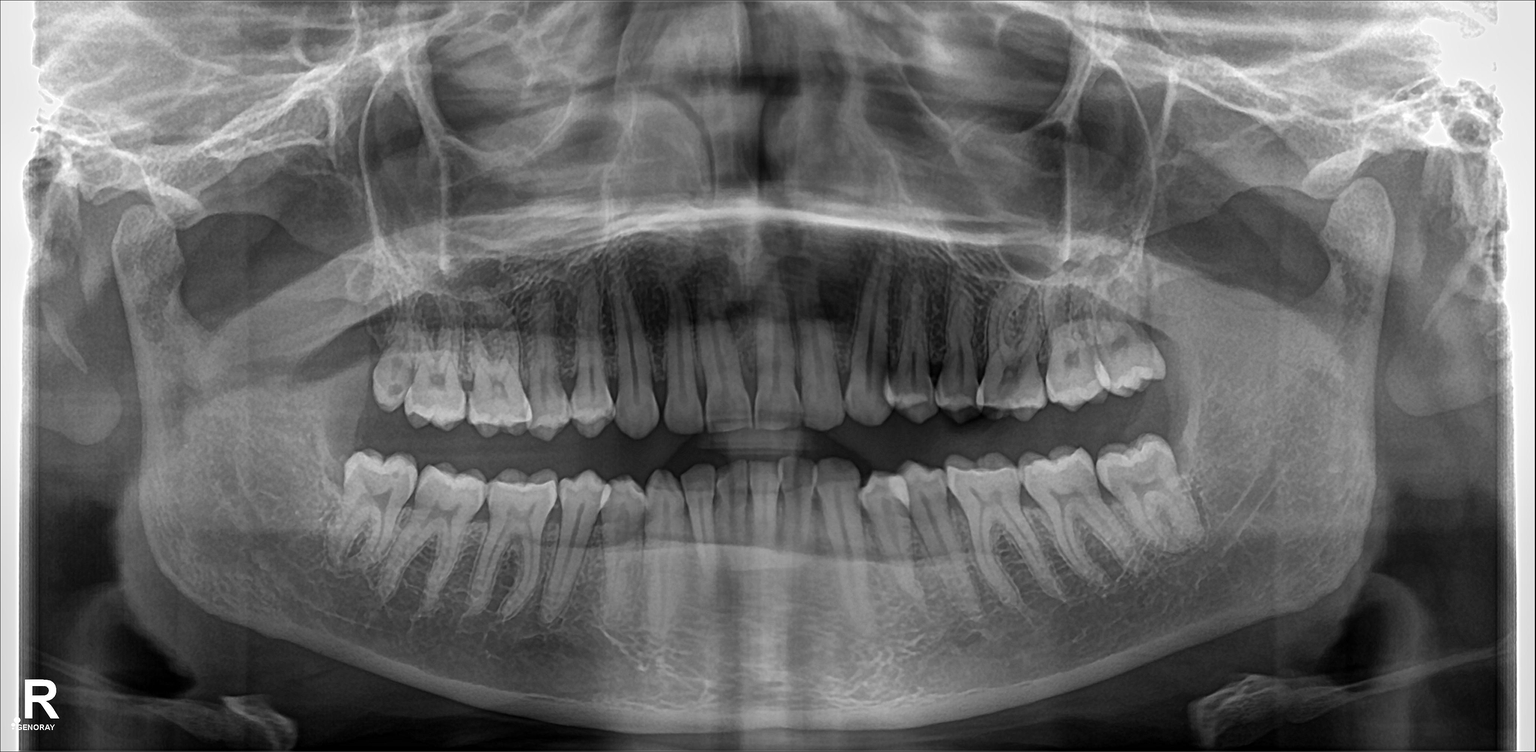Dental Caries: (387, 359, 404, 393)
